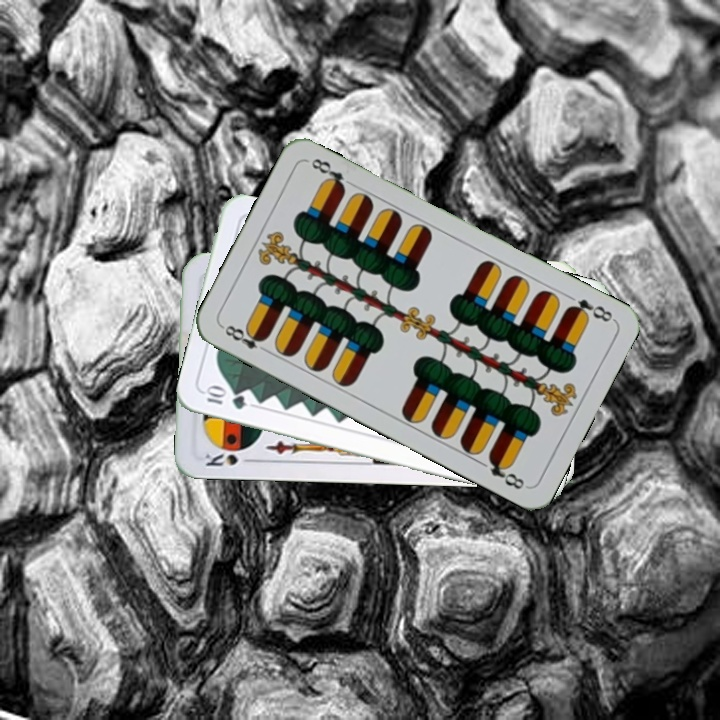E8: (218, 320, 272, 356), (562, 294, 616, 325)
G10: (202, 383, 250, 412)
SK: (201, 448, 258, 469)
